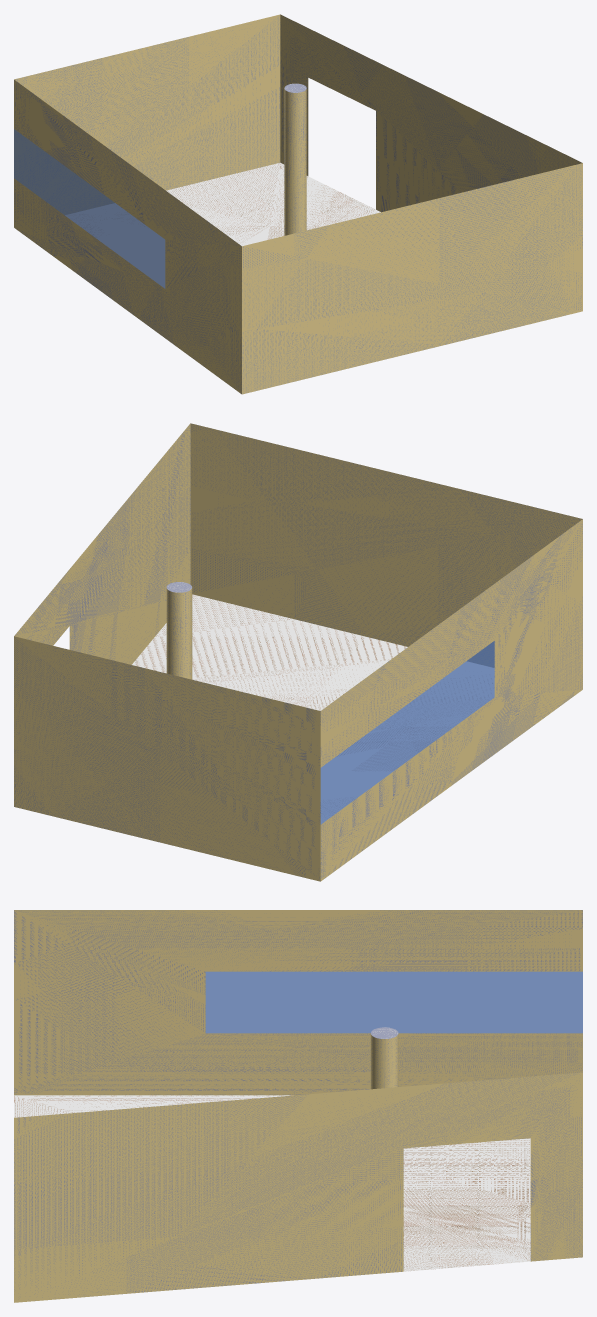
File: LAB015.obj
3 views of the same model, one above another, from view 1: azimuth 30°, elevation 25°; view 2: azimuth 150°, elevation 25°; view 3: azimuth 270°, elevation 25° (orthographic). The views are drawn at different scales.
Visible parts, largest first — view 1: Mesh4 LAB015 Model, Mesh1 Group1 LAB015 Model; view 2: Mesh4 LAB015 Model, Mesh1 Group1 LAB015 Model; view 3: Mesh4 LAB015 Model, Mesh1 Group1 LAB015 Model.
Boxes of the visible parts, x1,y1,x2,y2 form: Mesh4 LAB015 Model: (14,14,582,394); Mesh1 Group1 LAB015 Model: (284,83,306,235); Mesh4 LAB015 Model: (14,423,582,881); Mesh1 Group1 LAB015 Model: (166,582,192,679); Mesh4 LAB015 Model: (14,910,582,1302); Mesh1 Group1 LAB015 Model: (370,1027,398,1089).
Size of the model in its own units: 7.26 by 3.02 by 8.4.
6 materials, 2 textured.
